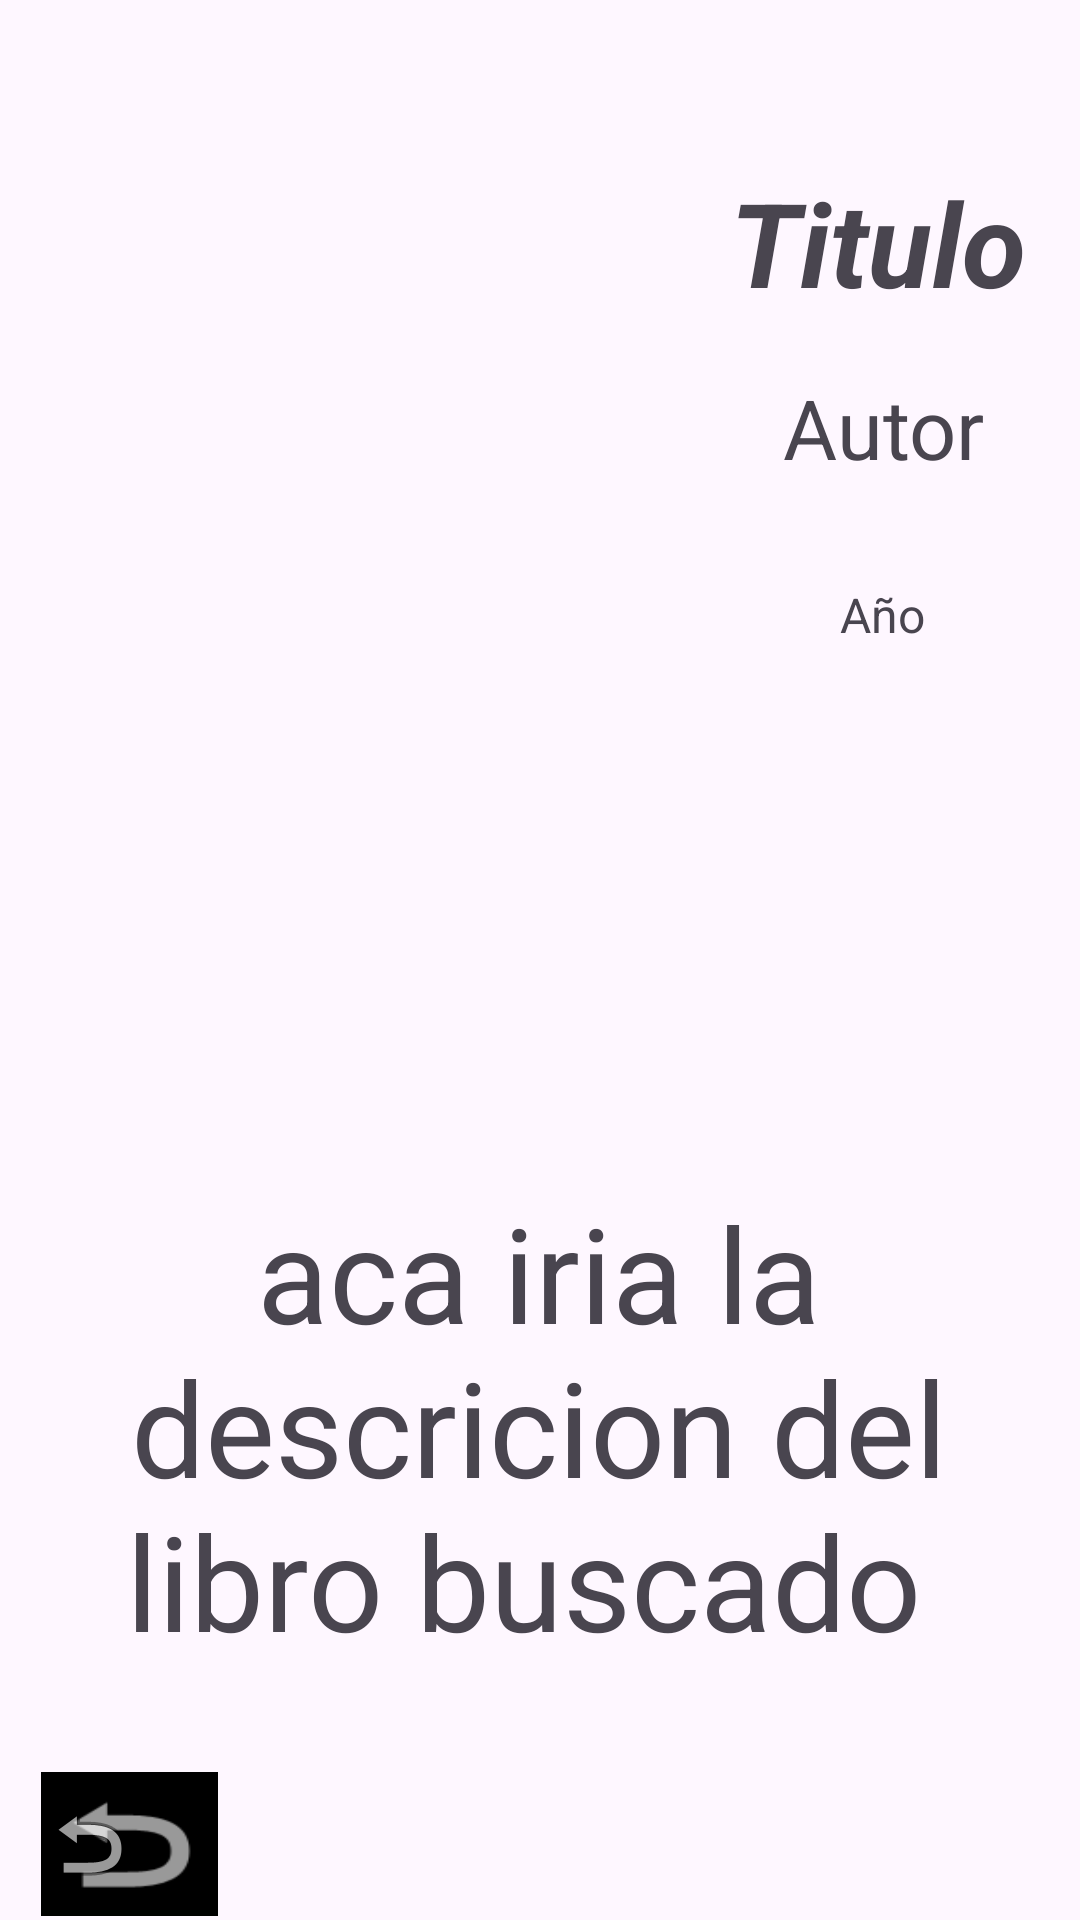

Where icons sit on this 1080w x 1920h app screen, as (x1, y1, x2, y2):
revert: (41, 1772, 218, 1916)
